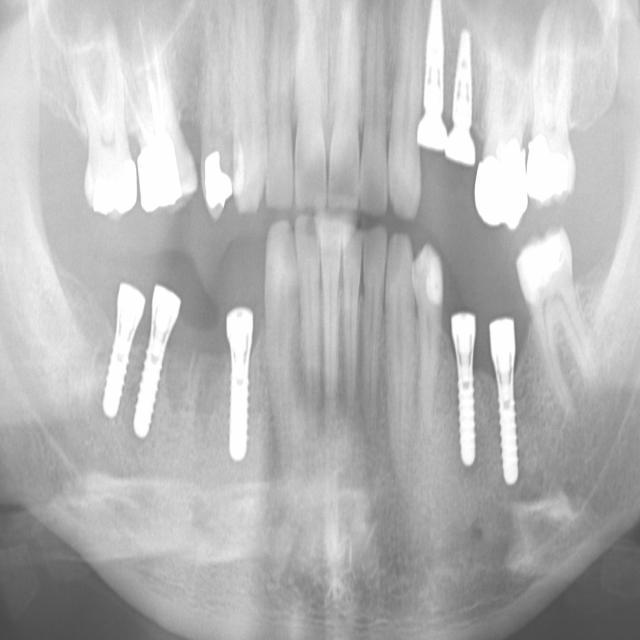infected-teeth: (124, 7, 198, 212)
